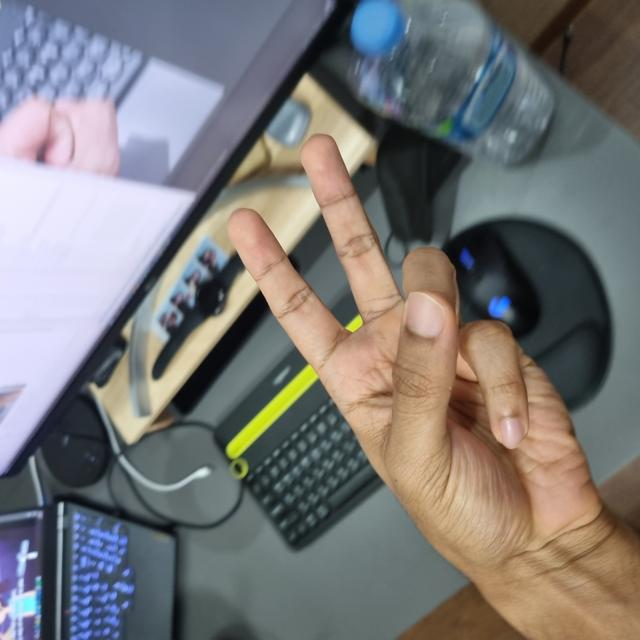Scissors: (83, 231, 506, 612)
